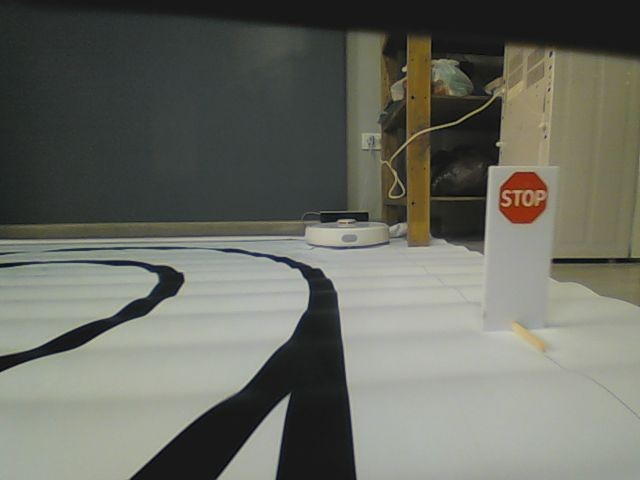Stop: (496, 169, 550, 226)
